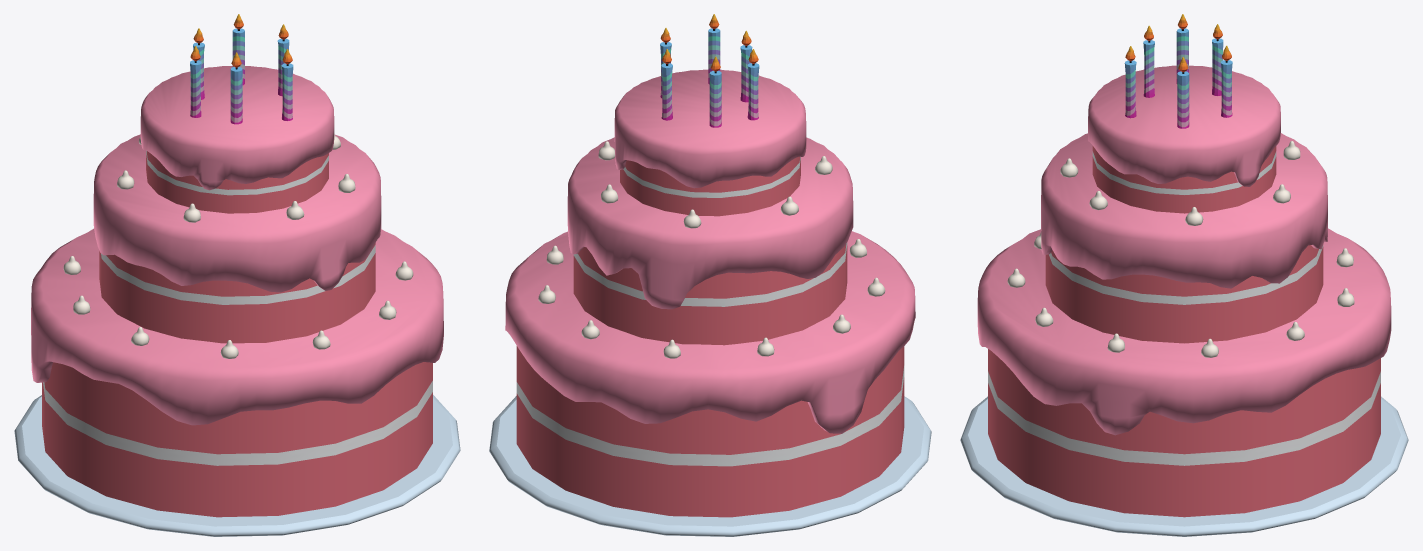
File: building_46.fbx
3 renders of one model, left to right at view 1: azimuth 30°, elevation 25°; view 2: azimuth 150°, elevation 25°; view 3: azimuth 270°, elevation 25°, orthographic.
Visible parts, largest first — view 1: Strawberry Cake; view 2: Strawberry Cake; view 3: Strawberry Cake.
Part boxes in pixels (<box>): Strawberry Cake: <box>14,14,460,536</box>; Strawberry Cake: <box>489,14,931,536</box>; Strawberry Cake: <box>960,14,1408,536</box>.
Size of the model in its own units: 1040 by 1051 by 1040.
